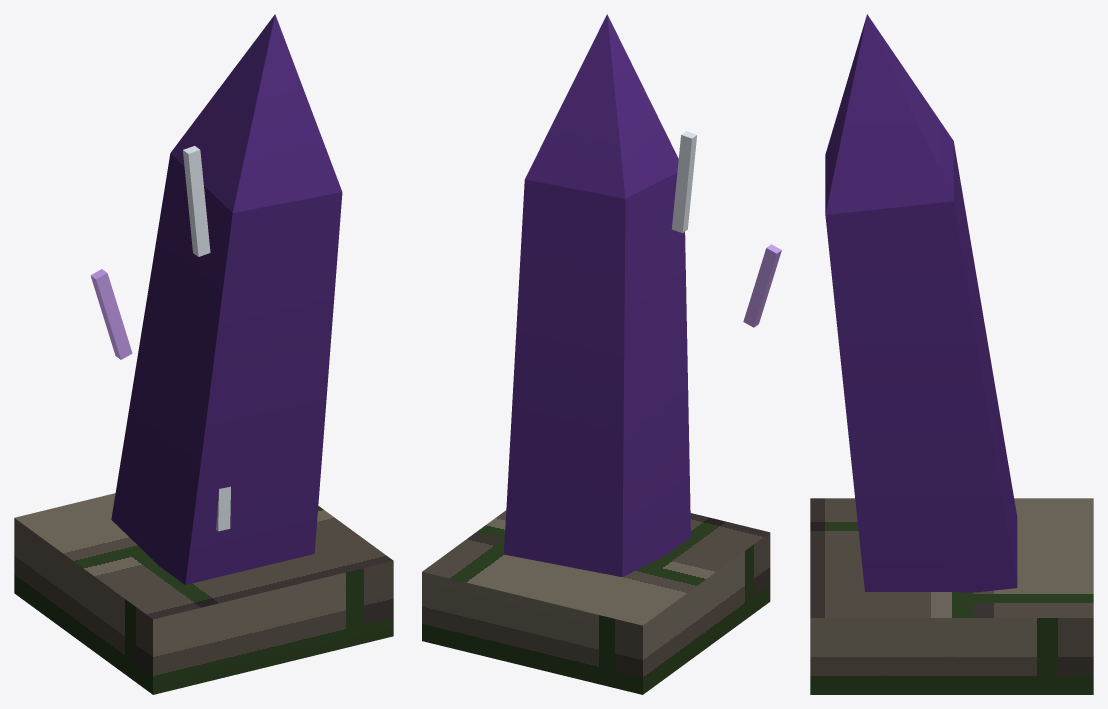
Rendered from cracked_prism.glb.
3 renders of one model, left to right at view 1: azimuth 30°, elevation 25°; view 2: azimuth 150°, elevation 25°; view 3: azimuth 270°, elevation 25°, orthographic. The views are drawn at different scales.
Parts seen in each view (by area): view 1: cracked_prism; view 2: cracked_prism; view 3: cracked_prism.
Part boxes in pixels (left/top/right/bottom): cracked_prism: left=14, top=14, right=393, bottom=694; cracked_prism: left=422, top=14, right=781, bottom=694; cracked_prism: left=810, top=14, right=1093, bottom=694.
Size of the model in its own units: 1.15 by 2.48 by 1.
3 materials, 1 textured.
